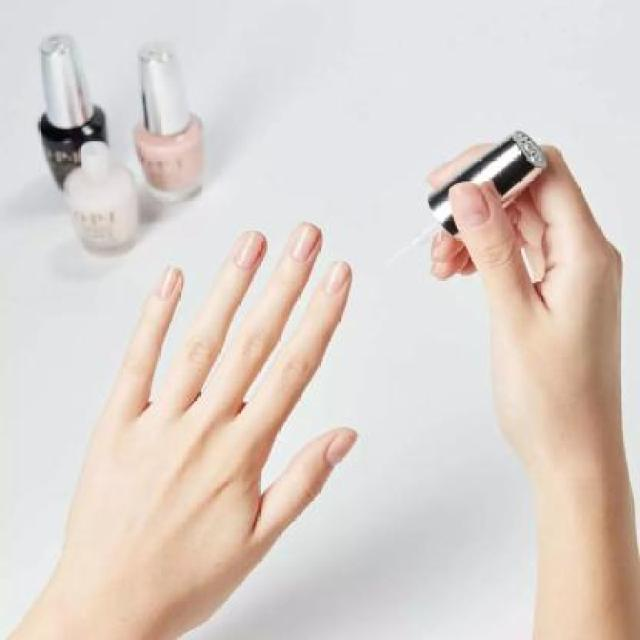hand_noglove: (53, 218, 359, 590), (427, 138, 625, 468)
